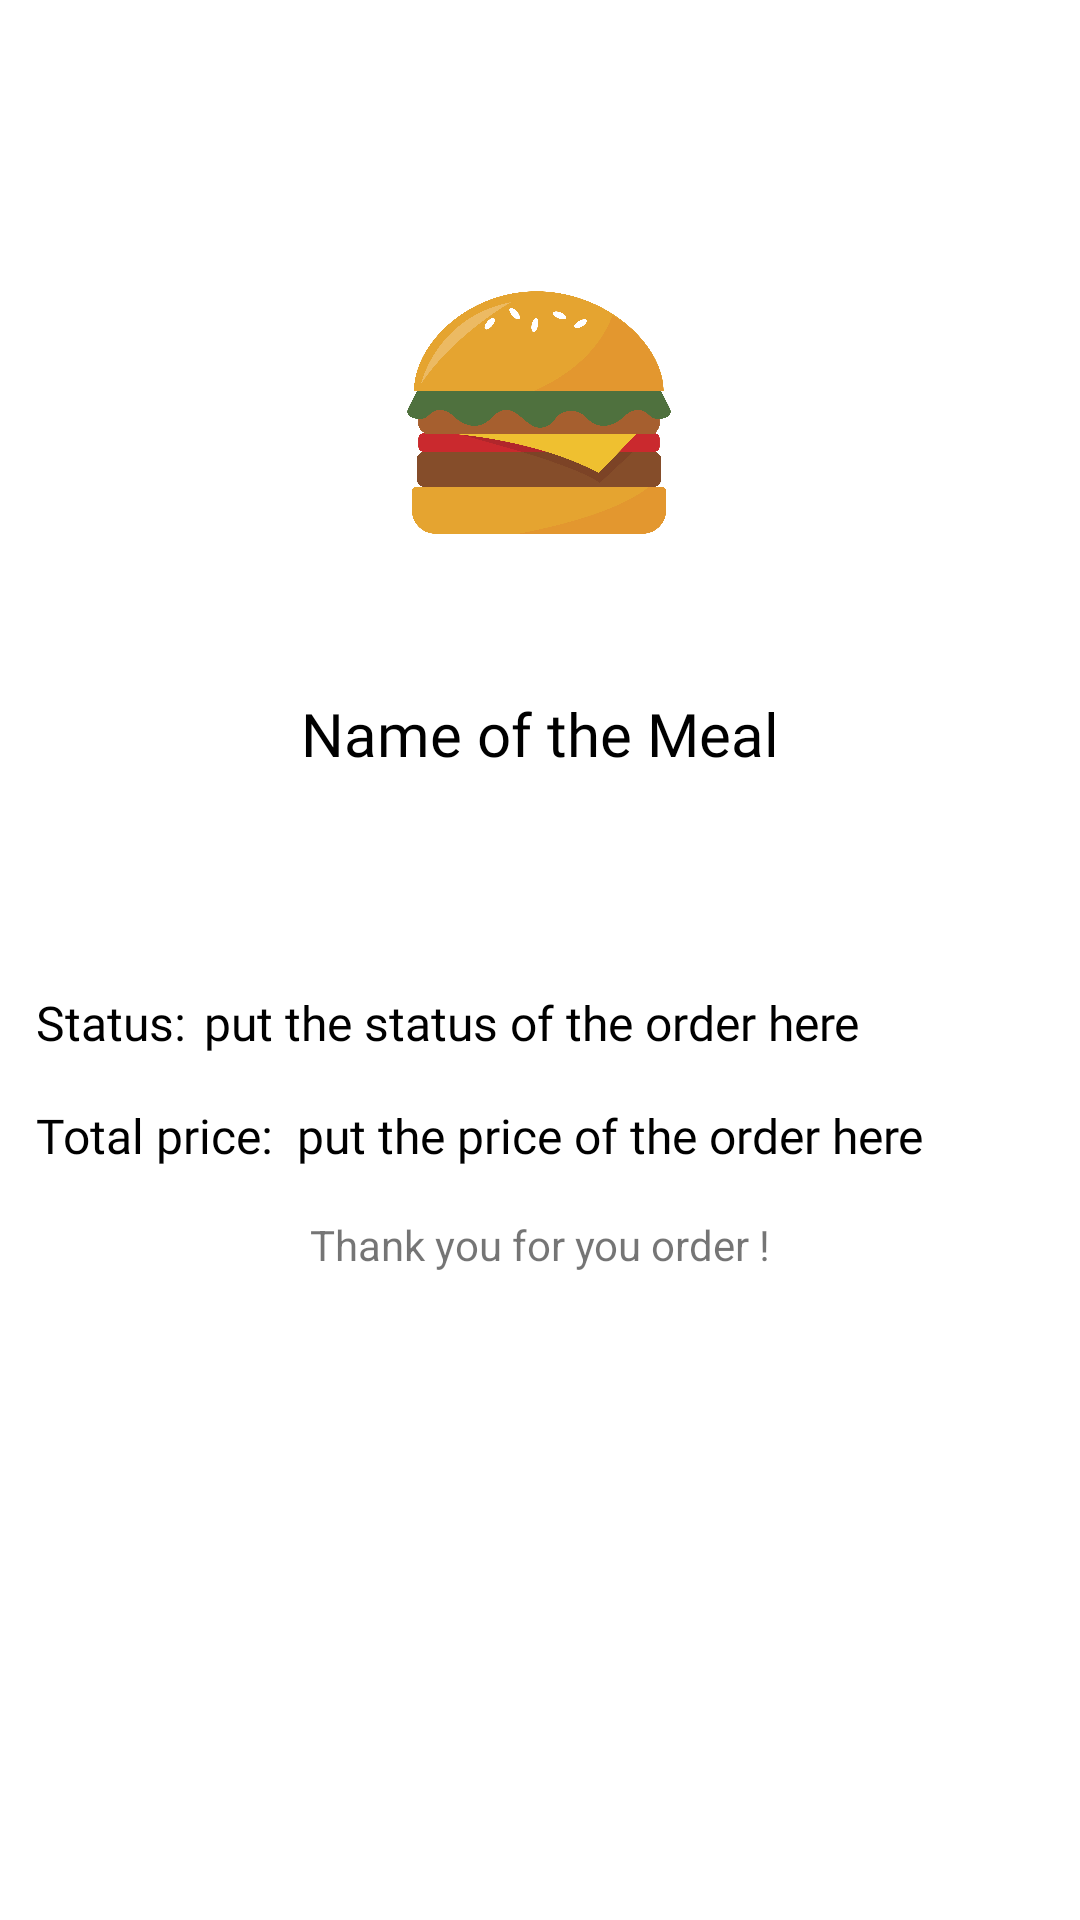

Screen size 1080px×1920px. Icon name, then its center in pixels as (x,y):
burger: (539,412)
